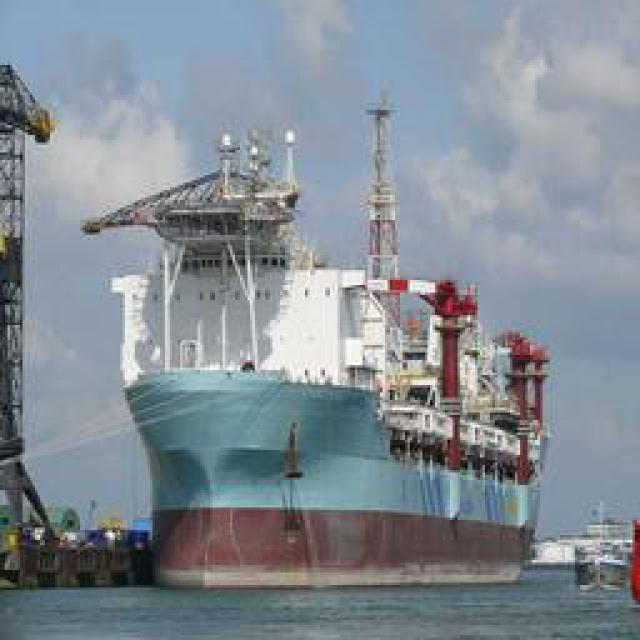Ship: (100, 120, 553, 590)
